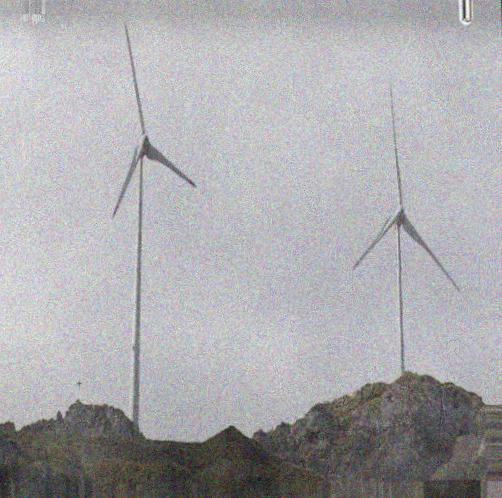wind turbine: (110, 21, 195, 434), (352, 82, 465, 383)
